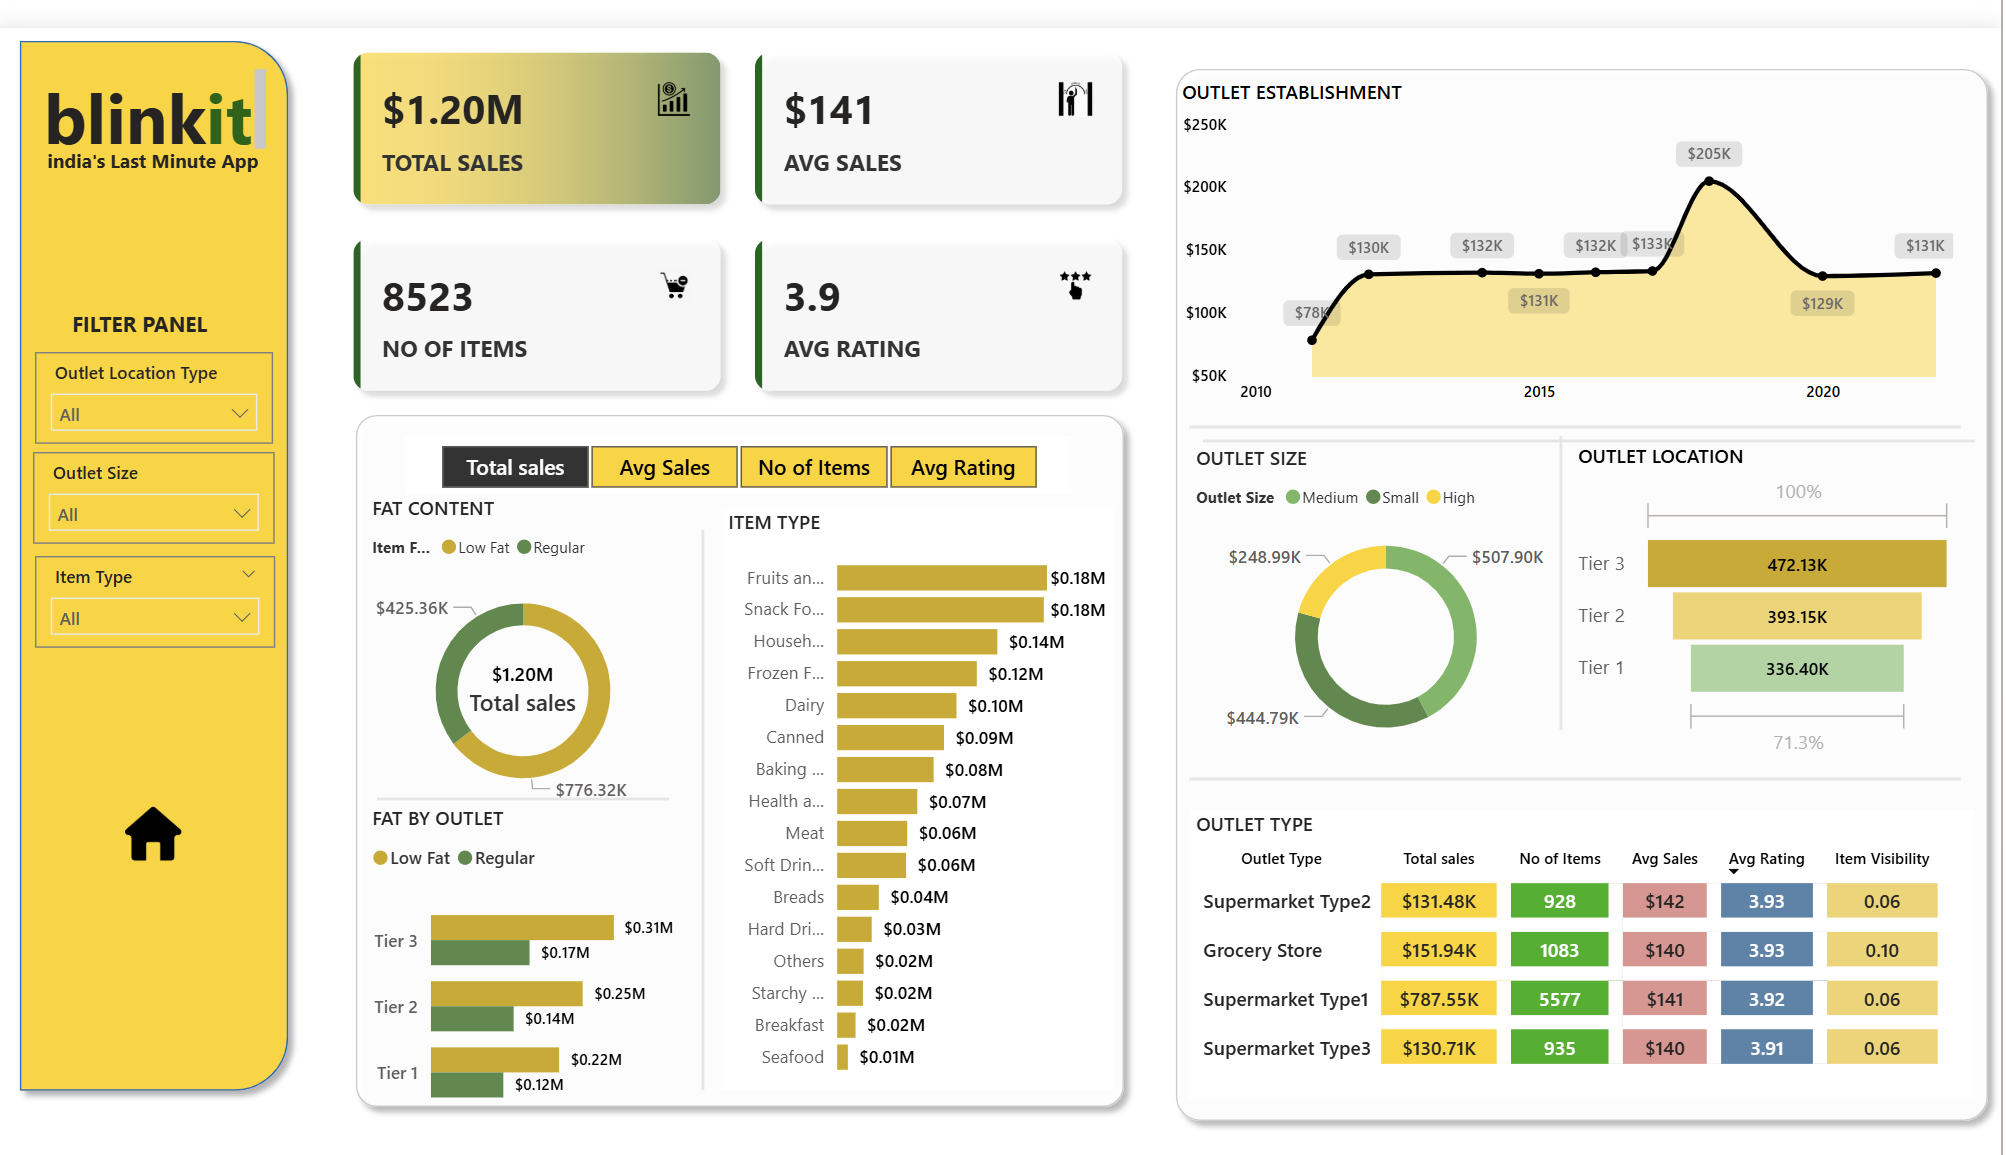

The dashboard page shown, as its layout file describes it:
{"tool":"powerbi","page":{"name":"Page 1","canvas":[1400,800],"ordinal":0},"visuals":[{"type":"shape","box":[10,0,205,750],"z":0},{"type":"textbox","box":[29.3,23.7,165.9,69.7],"z":1000},{"type":"textbox","box":[27.9,78.1,167.3,30.7],"z":2000},{"type":"cardVisual","fields":{"Data":["BlinkIT Grocery Data.Total sales","BlinkIT Grocery Data.Avg Sales","BlinkIT Grocery Data.No of Items","BlinkIT Grocery Data.Avg Rating"]},"box":[234.3,0,570.3,270.5],"z":3000},{"type":"shape","box":[244,260.8,553.6,500.6],"z":4000},{"type":"donutChart","title":"FAT CONTENT","fields":{"Y":["BlinkIT Grocery Data.Total sales"],"Category":["BlinkIT Grocery Data.Item Fat Content"]},"box":[259.4,324.9,220.3,230.1],"z":5000},{"type":"slicer","fields":{"Values":["Metrics.Metrics"]},"box":[287.3,284.5,464.3,40.4],"z":6000},{"type":"cardVisual","fields":{"Data":["BlinkIT Grocery Data.Total sales"]},"box":[313.7,423.9,111.6,65.5],"z":7000},{"type":"clusteredBarChart","title":"FAT BY OUTLET","fields":{"Y":["BlinkIT Grocery Data.Total sales"],"Series":["BlinkIT Grocery Data.Item Fat Content"],"Category":["BlinkIT Grocery Data.Outlet Location Type"]},"box":[259.4,541,220.3,230.1],"z":8000},{"type":"shape","box":[267.7,524.3,203.6,26.5],"z":9000},{"type":"shape","box":[479.7,350,30.7,390.4],"z":10000},{"type":"barChart","title":"ITEM TYPE","fields":{"Y":["BlinkIT Grocery Data.Total sales"],"Category":["BlinkIT Grocery Data.Item Type"]},"box":[507.6,334.7,273.3,405.8],"z":11000},{"type":"shape","box":[815.7,19.5,584.3,751.6],"z":12000},{"type":"lineChart","title":"OUTLET ESTABLISHMENT","fields":{"Category":["BlinkIT Grocery Data.Outlet Establishment Year"],"Y":["BlinkIT Grocery Data.Total sales"]},"box":[824.1,34.9,548,235.7],"z":13000},{"type":"shape","box":[833.9,506.2,538.2,34.9],"z":14000},{"type":"donutChart","title":"OUTLET SIZE","fields":{"Y":["BlinkIT Grocery Data.Total sales"],"Category":["BlinkIT Grocery Data.Outlet Size"]},"box":[833.9,290,274.7,224.5],"z":15000},{"type":"shape","box":[1077.9,284.5,30.7,205],"z":16000},{"type":"funnel","title":"OUTLET LOCATION","fields":{"Category":["BlinkIT Grocery Data.Outlet Location Type"],"Y":["Sum(BlinkIT Grocery Data.Sales)"]},"box":[1100.2,288.6,271.9,224.5],"z":17000},{"type":"shape","box":[843.9,270.8,538.2,34.9],"z":18000},{"type":"pivotTable","title":"OUTLET TYPE","fields":{"Rows":["BlinkIT Grocery Data.Outlet Type"],"Values":["BlinkIT Grocery Data.Total sales","BlinkIT Grocery Data.No of Items","BlinkIT Grocery Data.Avg Sales","BlinkIT Grocery Data.Avg Rating","Avg(BlinkIT Grocery Data.Item Visibility)"]},"box":[833.9,545.2,548,202.2],"z":19000},{"type":"slicer","fields":{"Values":["BlinkIT Grocery Data.Outlet Location Type"]},"box":[29.3,225.9,165.9,64.1],"z":20000},{"type":"shape","box":[833.9,260.8,538.2,34.9],"z":21000},{"type":"slicer","fields":{"Values":["BlinkIT Grocery Data.Outlet Size"]},"box":[27.9,295.6,168.7,64.1],"z":22000},{"type":"slicer","fields":{"Values":["BlinkIT Grocery Data.Item Type"]},"box":[29.3,368.1,167.3,64.1],"z":23000},{"type":"textbox","box":[50.2,191,122.7,34.9],"z":24000},{"type":"image","box":[69.7,514.5,82.3,93.4],"z":24001}]}

Visuals, with their boxes in screenshot pixels (x1, y1, x2, y2), scaled from the page's 1400x800 canvas onto the 2006x1155 screenshot:
shape: detection(14, 0, 308, 1083)
textbox: detection(42, 34, 280, 135)
textbox: detection(40, 113, 280, 157)
cardVisual - BlinkIT Grocery Data.Total sales x BlinkIT Grocery Data.Avg Sales: detection(336, 0, 1153, 391)
shape: detection(350, 377, 1143, 1099)
"FAT CONTENT" donutChart: detection(372, 469, 687, 801)
slicer - Metrics.Metrics: detection(412, 411, 1077, 469)
cardVisual - BlinkIT Grocery Data.Total sales: detection(449, 612, 609, 707)
"FAT BY OUTLET" clusteredBarChart: detection(372, 781, 687, 1113)
shape: detection(384, 757, 675, 795)
shape: detection(687, 505, 731, 1069)
"ITEM TYPE" barChart: detection(727, 483, 1119, 1069)
shape: detection(1169, 28, 2005, 1113)
"OUTLET ESTABLISHMENT" lineChart: detection(1181, 50, 1966, 391)
shape: detection(1195, 731, 1966, 781)
"OUTLET SIZE" donutChart: detection(1195, 419, 1588, 743)
shape: detection(1544, 411, 1588, 707)
"OUTLET LOCATION" funnel: detection(1576, 417, 1966, 741)
shape: detection(1209, 391, 1980, 441)
"OUTLET TYPE" pivotTable: detection(1195, 787, 1980, 1079)
slicer - BlinkIT Grocery Data.Outlet Location Type: detection(42, 326, 280, 419)
shape: detection(1195, 377, 1966, 427)
slicer - BlinkIT Grocery Data.Outlet Size: detection(40, 427, 282, 519)
slicer - BlinkIT Grocery Data.Item Type: detection(42, 531, 282, 624)
textbox: detection(72, 276, 248, 326)
image: detection(100, 743, 218, 878)
